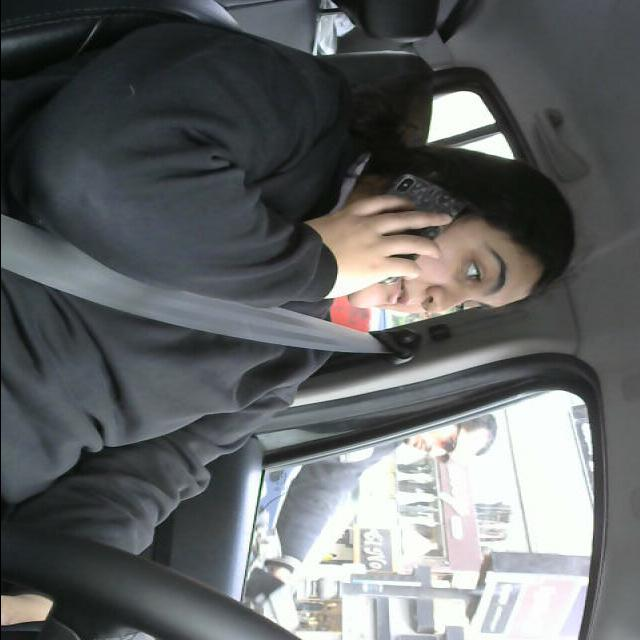mobile use: (336, 171, 466, 284)
